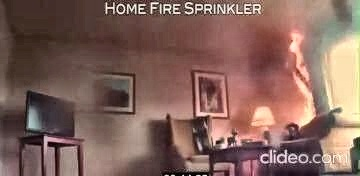fire: (272, 26, 325, 131)
